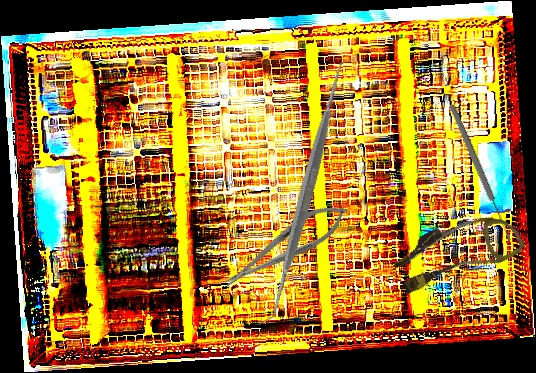Cannula: (387, 194, 527, 309)
Needle Holder: (215, 192, 357, 299)
Spatula Surgical: (171, 56, 441, 327)
Surgical Spoon: (447, 102, 514, 244)
